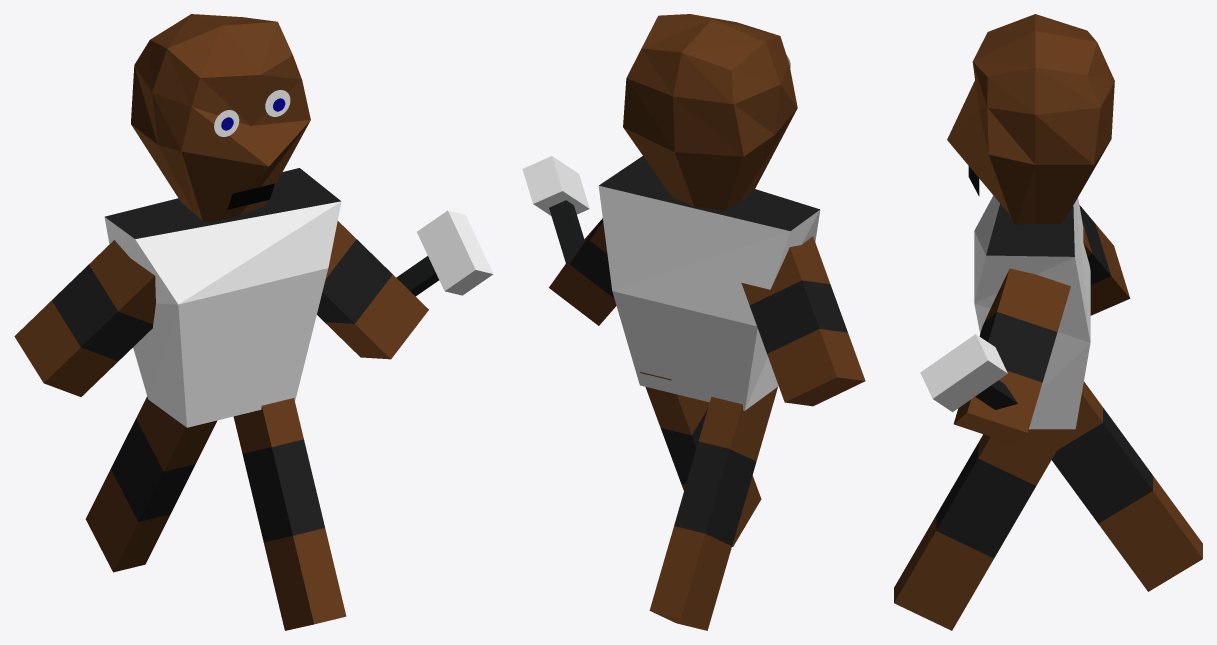
The model's file is slave3.obj.
3 renders of one model, left to right at view 1: azimuth 30°, elevation 25°; view 2: azimuth 150°, elevation 25°; view 3: azimuth 270°, elevation 25°, orthographic. The views are drawn at different scales.
Parts seen in each view (by area): view 1: Cube.001, Cube, Cube.005, Cube.003, Cube.004, Cube.002, Cube.008, Cube.007, Plane; view 2: Cube.001, Cube, Cube.004, Cube.003, Cube.005, Cube.002, Cube.008, Cube.007; view 3: Cube, Cube.005, Cube.004, Cube.001, Cube.002, Cube.008, Cube.003, Cube.007.
Part boxes in pixels (bbox=[...]): Cube.001: bbox=[104, 168, 341, 427]; Cube: bbox=[131, 14, 310, 221]; Cube.005: bbox=[233, 398, 346, 630]; Cube.003: bbox=[14, 240, 155, 396]; Cube.004: bbox=[85, 396, 217, 572]; Cube.002: bbox=[317, 221, 428, 359]; Cube.008: bbox=[417, 210, 493, 295]; Cube.007: bbox=[396, 256, 438, 296]; Plane: bbox=[227, 183, 274, 209]; Cube.001: bbox=[598, 156, 820, 410]; Cube: bbox=[623, 14, 797, 210]; Cube.004: bbox=[649, 387, 777, 630]; Cube.003: bbox=[741, 236, 865, 406]; Cube.005: bbox=[640, 371, 761, 546]; Cube.002: bbox=[549, 218, 616, 325]; Cube.008: bbox=[522, 156, 589, 215]; Cube.007: bbox=[549, 200, 584, 264]; Cube: bbox=[947, 14, 1114, 224]; Cube.005: bbox=[894, 429, 1068, 630]; Cube.004: bbox=[1052, 381, 1202, 591]; Cube.001: bbox=[974, 195, 1090, 429]; Cube.002: bbox=[953, 268, 1070, 444]; Cube.008: bbox=[920, 334, 1007, 411]; Cube.003: bbox=[1079, 205, 1130, 315]; Cube.007: bbox=[975, 380, 1017, 409].
Bounding box in the file's own units: 4.16 × 5.94 × 2.9.
